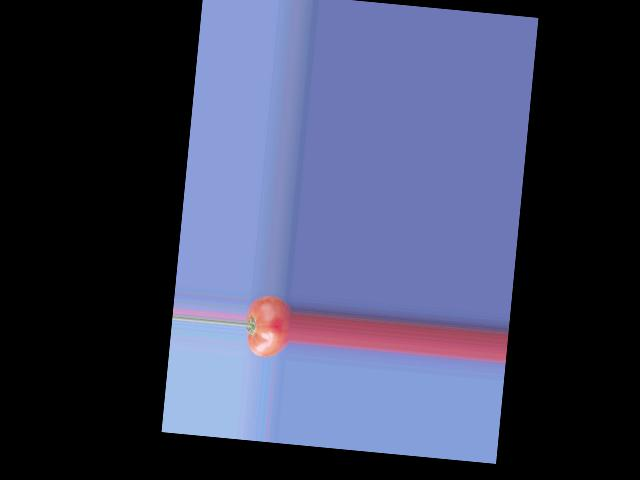tomato: (243, 293, 293, 358)
